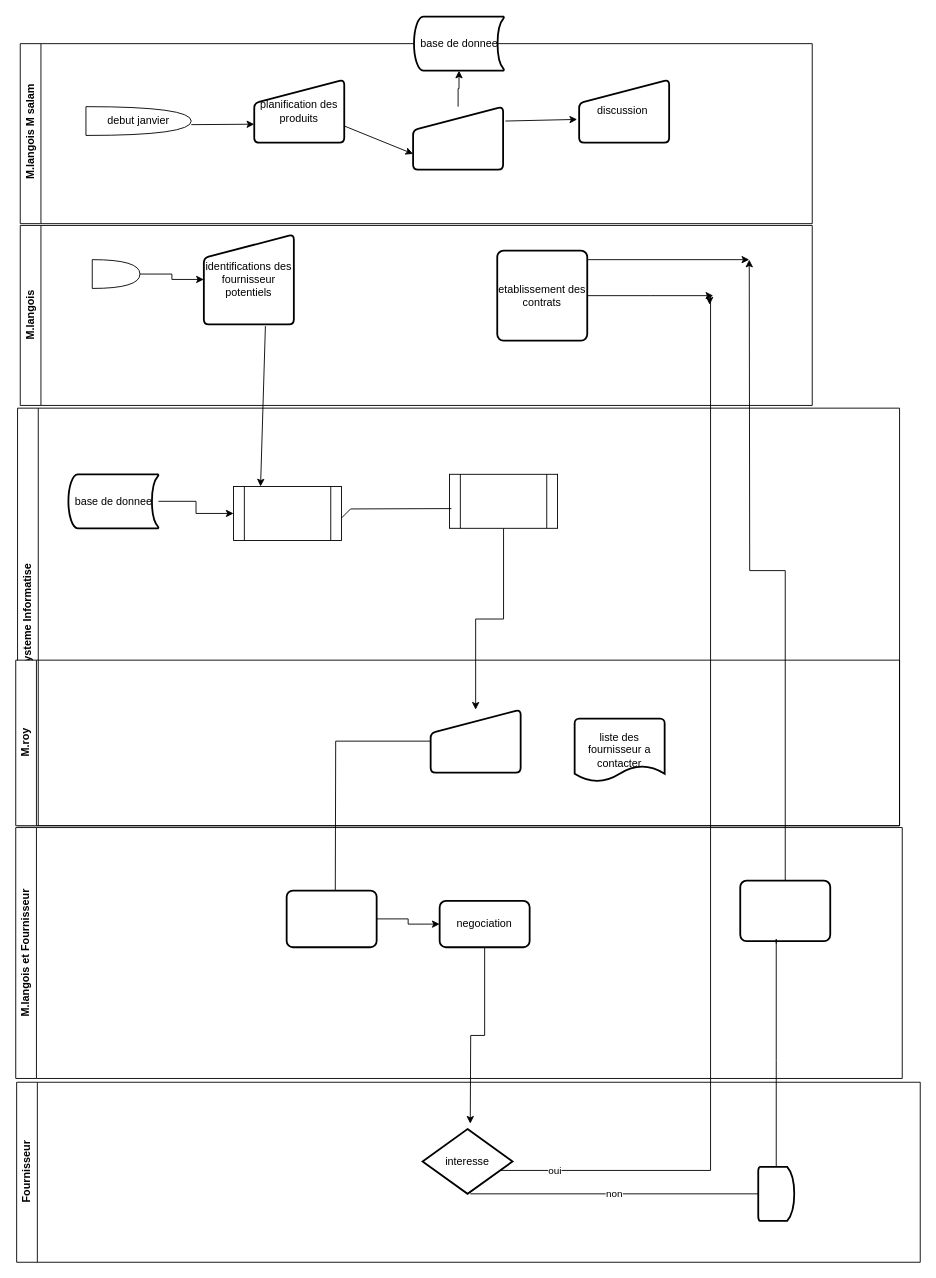
The diagram is 936 pixels wide and 1278 high, and some of its shapes have lost their labels. Here are the shapes that lost their labels. From the top down, the centre of each, then its label:
At point (458, 137): "prevoir les achat fruitleg".
At point (115, 273): "Debut".
At point (287, 513): "Maj des listes de fournisseurs".
At point (503, 500): "listes des fournisseurs".
At point (475, 740): "saisir la liste des fournisseur".
At point (331, 918): "rencontre avec les fournisseurs".
At point (785, 910): "signature du contrat".
At point (776, 1193): "fin".
